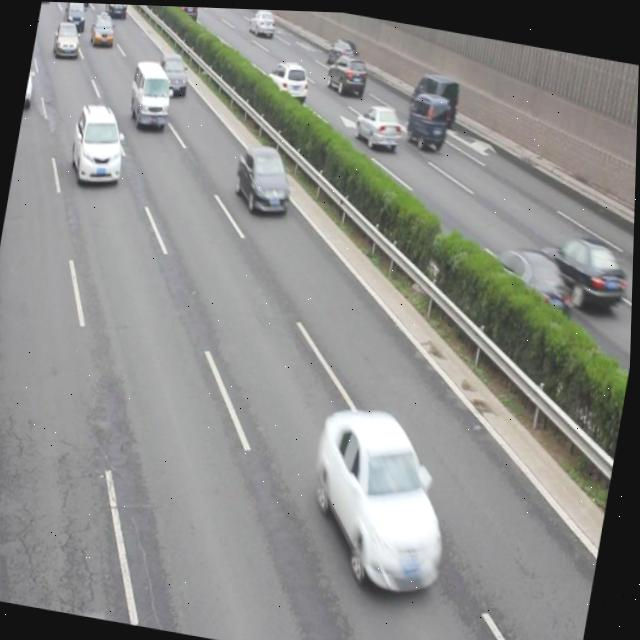car: (301, 399, 466, 600), (481, 237, 582, 324), (535, 225, 635, 309), (67, 100, 131, 190), (231, 141, 297, 215), (402, 86, 451, 149), (352, 100, 404, 149), (324, 48, 370, 94), (264, 56, 311, 100), (154, 50, 192, 96), (323, 33, 359, 68), (53, 20, 85, 59), (88, 9, 118, 47), (246, 7, 276, 38), (62, 2, 89, 30), (25, 58, 40, 108), (174, 5, 200, 22), (104, 3, 131, 19)
truck: (126, 56, 177, 132), (408, 66, 462, 123)
